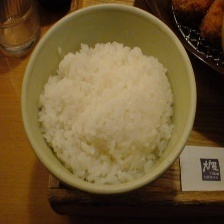rice: (38, 41, 173, 186)
